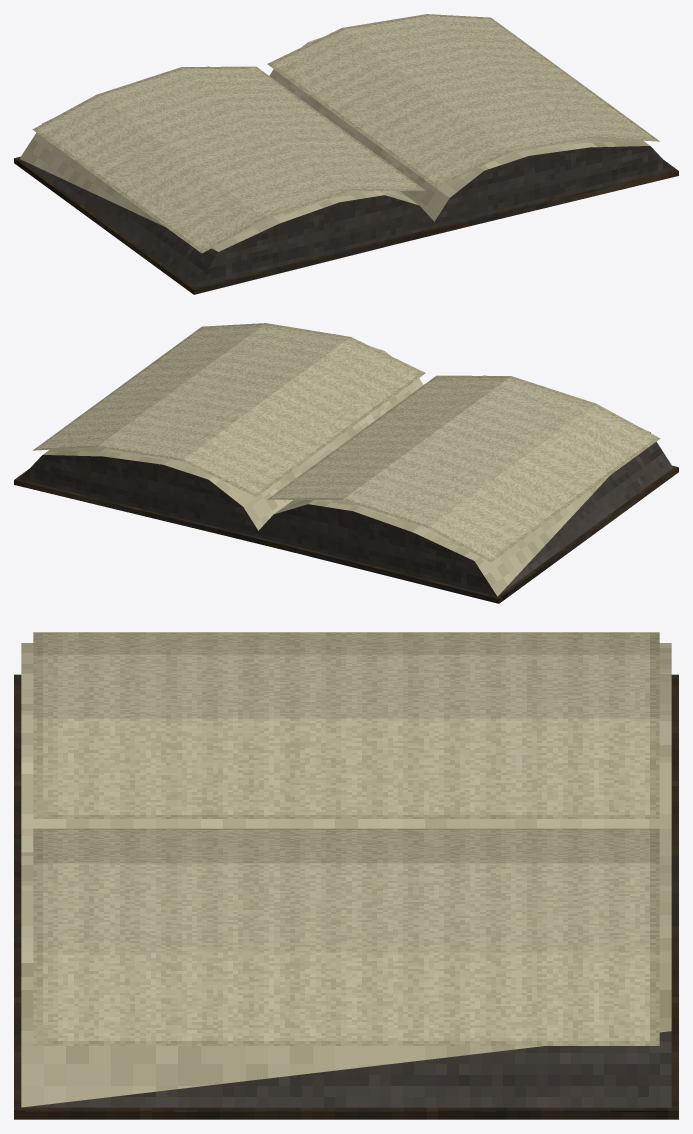
The model's file is blender_ghost_writing_book_1_open.glb.
3 renders of one model, top to bottom at view 1: azimuth 30°, elevation 25°; view 2: azimuth 150°, elevation 25°; view 3: azimuth 270°, elevation 25°, orthographic. The views are drawn at different scales.
Visible parts, largest first — view 1: blender_ghost_writing_book_1_open; view 2: blender_ghost_writing_book_1_open; view 3: blender_ghost_writing_book_1_open.
Boxes of the visible parts, x1=… form: blender_ghost_writing_book_1_open: x1=14, y1=14, x2=678, y2=294; blender_ghost_writing_book_1_open: x1=14, y1=323, x2=678, y2=603; blender_ghost_writing_book_1_open: x1=14, y1=632, x2=678, y2=1119.
Size of the model in its own units: 0.37 by 0.044 by 0.2378.
Materials: 2 (2 with a texture image).
